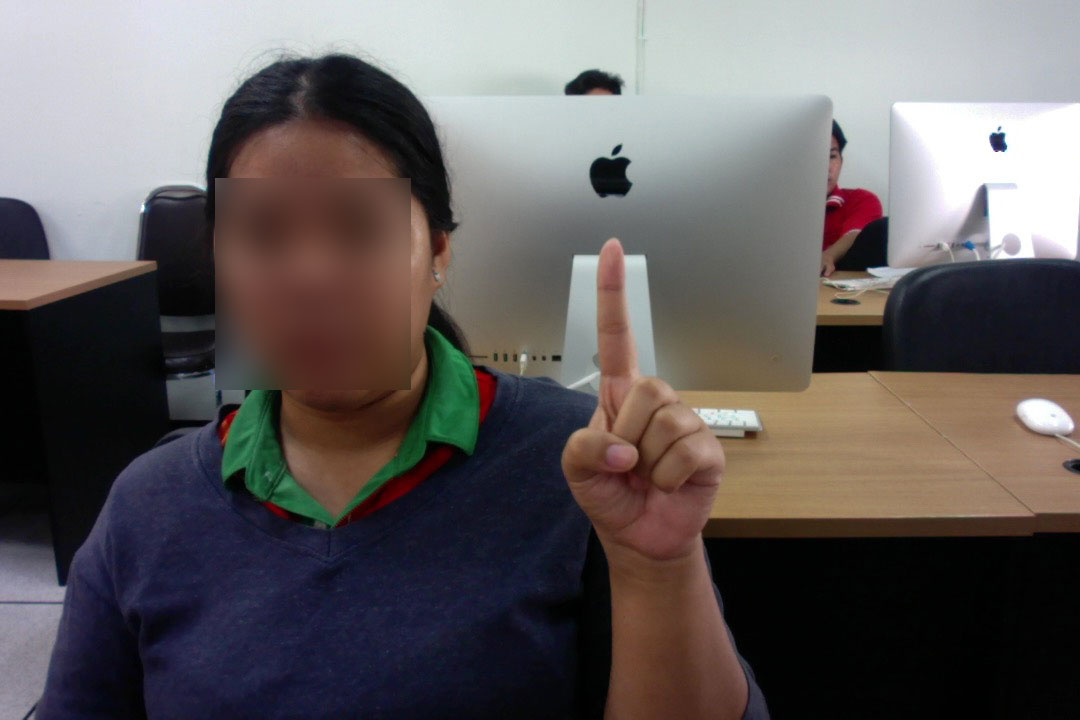dor: (558, 228, 742, 580)
